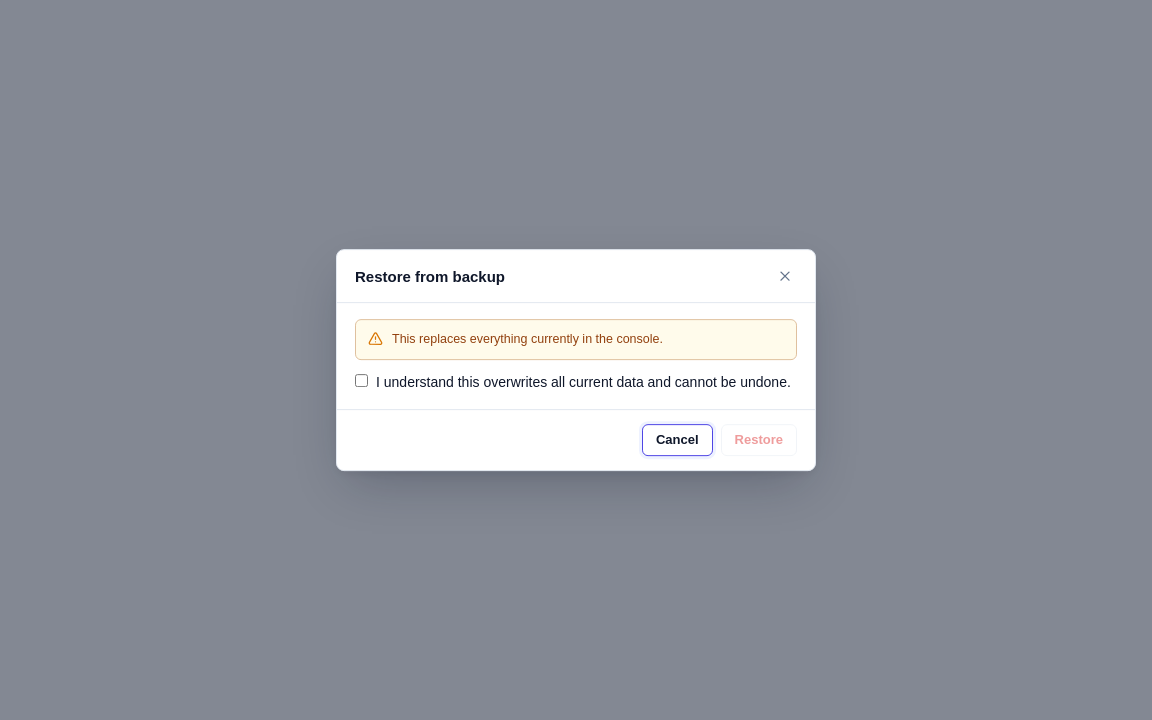
ChecklistConfirmDialog › unchecking the box after ticking it disables the action again
Click the checkbox at point(362, 380), box [355,374,368,387]
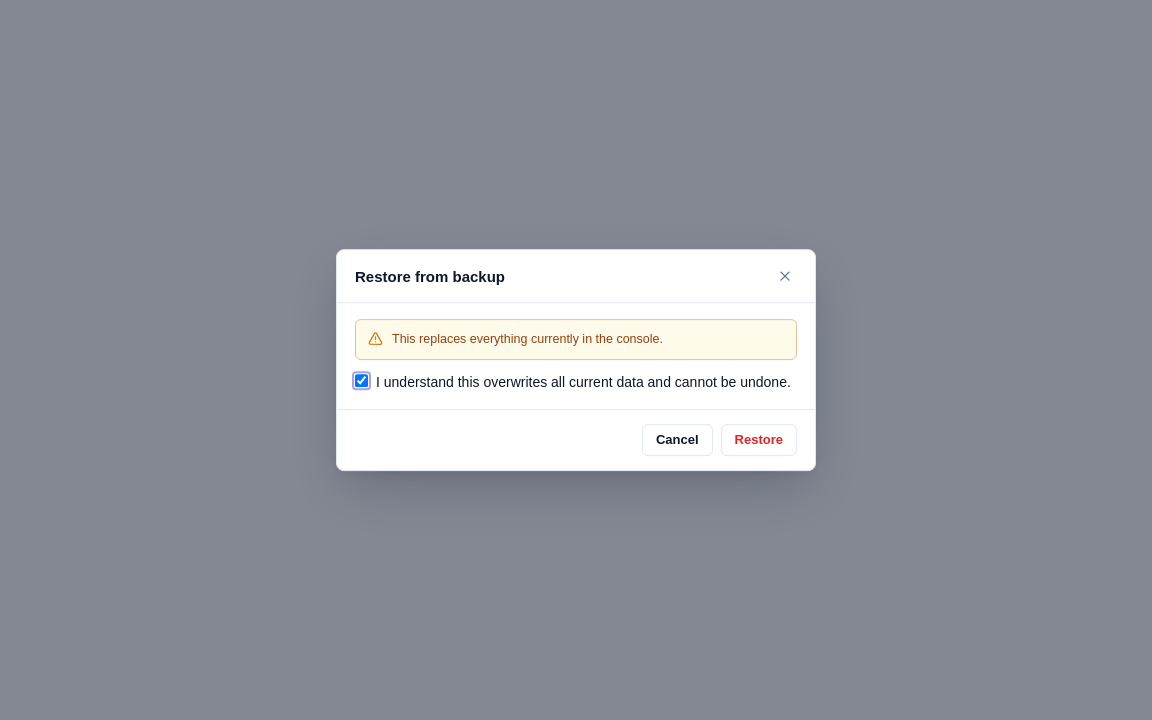
Now the button "Restore" is enabled, box [721,424,797,456]
Click the checkbox at point(362, 380), box [355,374,368,387]
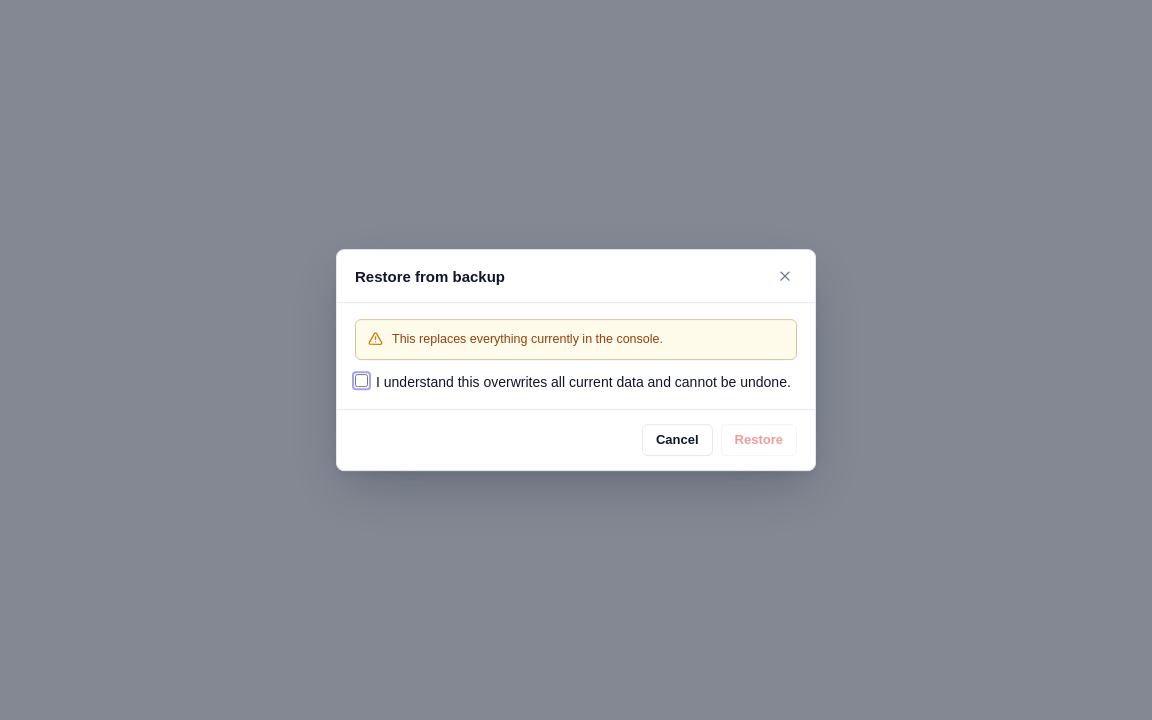
Now the button "Restore" is disabled, box [721,424,797,456]
